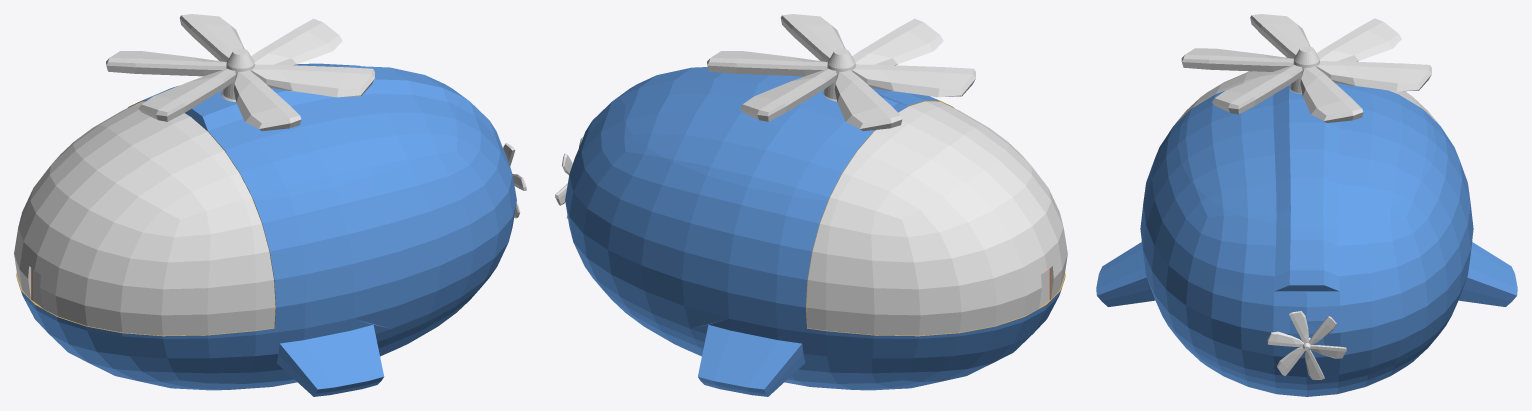
The model's file is 飞船10（分面且切开）.fbx.
3 views of the same model, side by side, from view 1: azimuth 30°, elevation 25°; view 2: azimuth 150°, elevation 25°; view 3: azimuth 270°, elevation 25° (orthographic). The views are drawn at different scales.
Visible parts, largest first — view 1: 立方体.008, 立方体.002, 立方体.005, 立方体.007, 立方体.009, 立方体.020, 立方体.021, 立方体.019, 立方体.017, 立方体.022, 立方体.018, 立方体.004 (+1 smaller); view 2: 立方体.008, 立方体.002, 立方体.005, 立方体.007, 立方体.009, 立方体.022, 立方体.017, 立方体.021, 立方体.019, 立方体.018, 立方体.020, 立方体.004 (+1 smaller); view 3: 立方体.008, 立方体.005, 立方体.007, 立方体.018, 立方体.019, 立方体.017, 立方体.021, 立方体.020, 立方体.022, 立方体.002, 柱体.001, 立方体.015 (+3 smaller).
Boxes of the visible parts, x1,y1,x2,y2 form: 立方体.008: (16,152,516,396); 立方体.002: (22,101,272,276); 立方体.005: (128,63,461,200); 立方体.007: (253,85,508,270); 立方体.009: (14,202,275,335); 立方体.020: (251,64,374,97); 立方体.021: (233,70,301,131); 立方体.019: (251,18,342,65); 立方体.017: (106,51,226,76); 立方体.022: (138,68,235,121); 立方体.018: (179,14,244,61); 立方体.004: (108,341,412,390); 立方体.008: (565,152,1065,396); 立方体.002: (809,101,1058,276); 立方体.005: (620,67,953,200); 立方体.007: (574,85,828,270); 立方体.009: (806,203,1067,335); 立方体.022: (852,64,975,97); 立方体.017: (834,70,902,130); 立方体.021: (852,18,943,65); 立方体.019: (707,51,827,76); 立方体.018: (739,68,836,121); 立方体.020: (780,14,845,61); 立方体.004: (669,341,973,390); 立方体.008: (1096,176,1517,394); 立方体.005: (1177,82,1436,230); 立方体.007: (1145,111,1468,298); 立方体.018: (1317,61,1431,91); 立方体.019: (1300,66,1363,122); 立方体.017: (1316,18,1401,61); 立方体.021: (1181,48,1293,71); 立方体.020: (1212,64,1302,114); 立方体.022: (1250,14,1310,58); 立方体.002: (1175,71,1438,123); 柱体.001: (1289,46,1319,93); 立方体.015: (1267,331,1303,347).
Bounding box in the file's own units: 4605 × 2926 × 3796.
